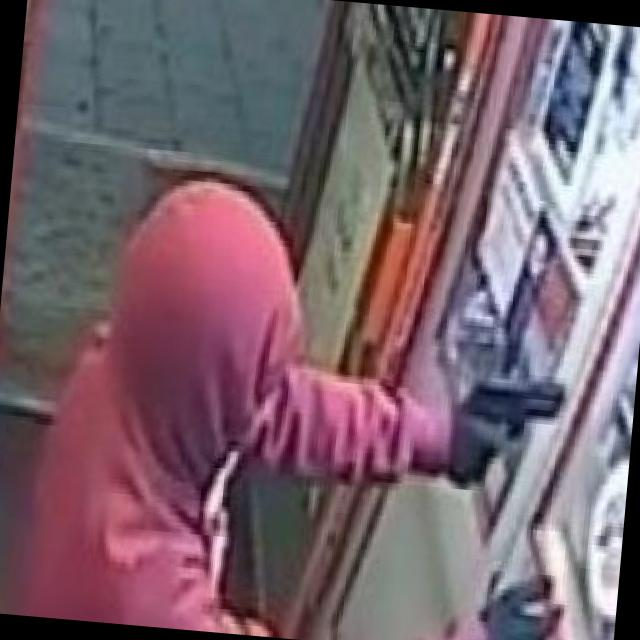Guns: (435, 356, 580, 466)
